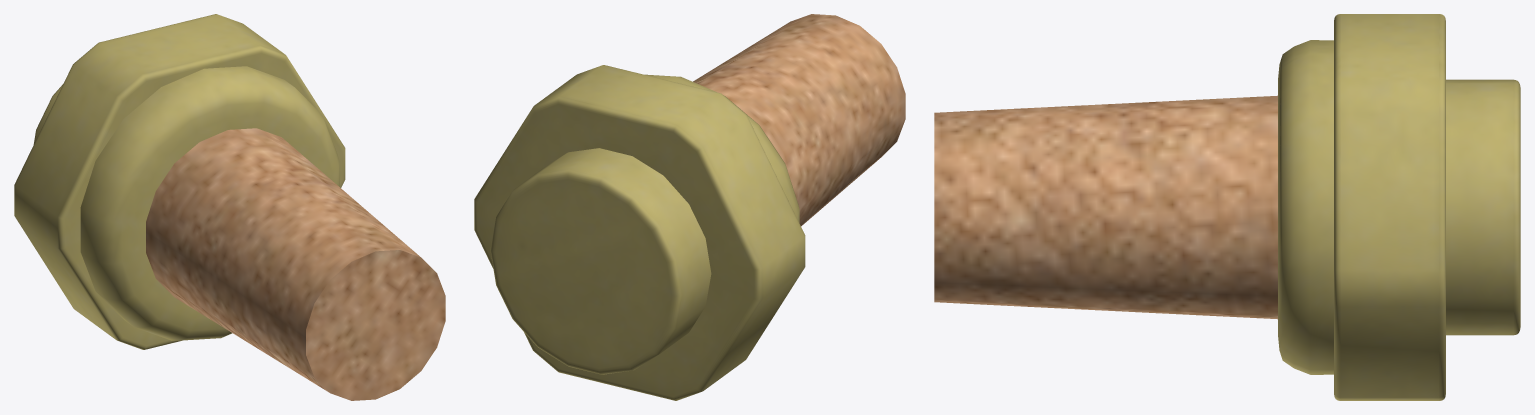
Rendered from 消声接头02.fbx.
The picture shows the model from 3 angles, left to right: view 1: azimuth 30°, elevation 25°; view 2: azimuth 150°, elevation 25°; view 3: azimuth 270°, elevation 25°; orthographic projection. The views are drawn at different scales.
Parts seen in each view (by area): view 1: 消声接头02; view 2: 消声接头02; view 3: 消声接头02.
Part boxes in pixels (bbox=[...]): 消声接头02: bbox=[14, 14, 445, 400]; 消声接头02: bbox=[474, 14, 905, 400]; 消声接头02: bbox=[934, 14, 1520, 400].
Size of the model in its own units: 1.66 by 1.53 by 2.53.
